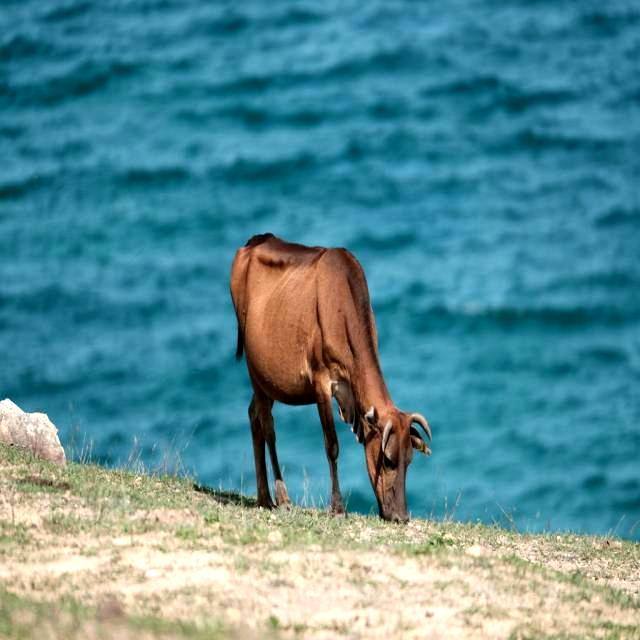COW: (230, 234, 431, 522)
